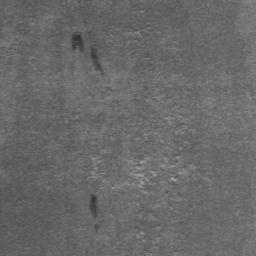Iron scale compression: (88, 177, 103, 234), (90, 46, 104, 77), (71, 32, 85, 55)
